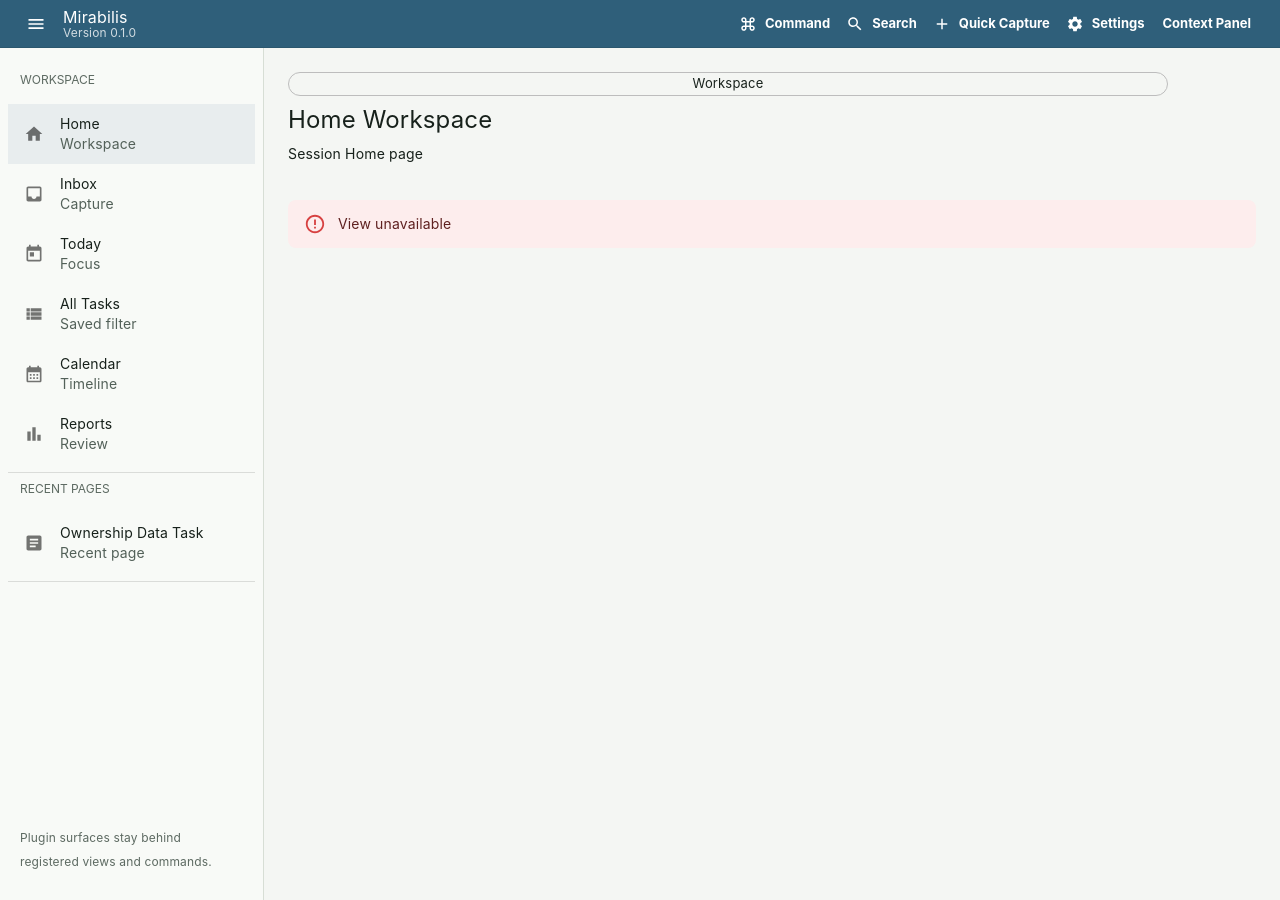
Test: TASK-038 sidebar page and saved-filter navigation › fails closed when plugin ownership data is unavailable for filter source and view checks
Step 1. Click the button "All Tasks Saved filter" → (80, 314), box [24,295,137,332]
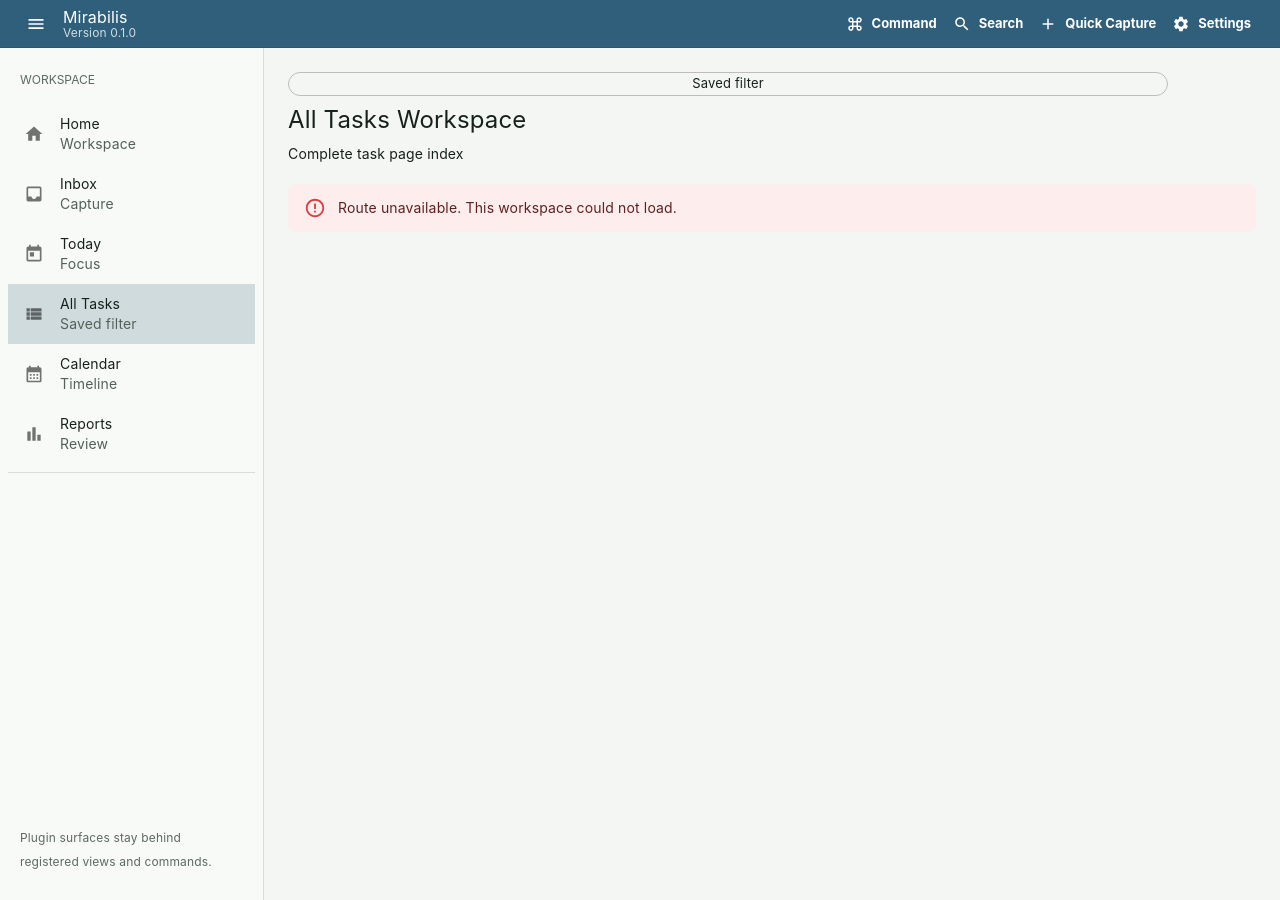
expect the message "Route unavailable. This workspace could not load." is shown: met, box [288,184,1256,232]
expect the text "Ownership Data Task" is gone: met
